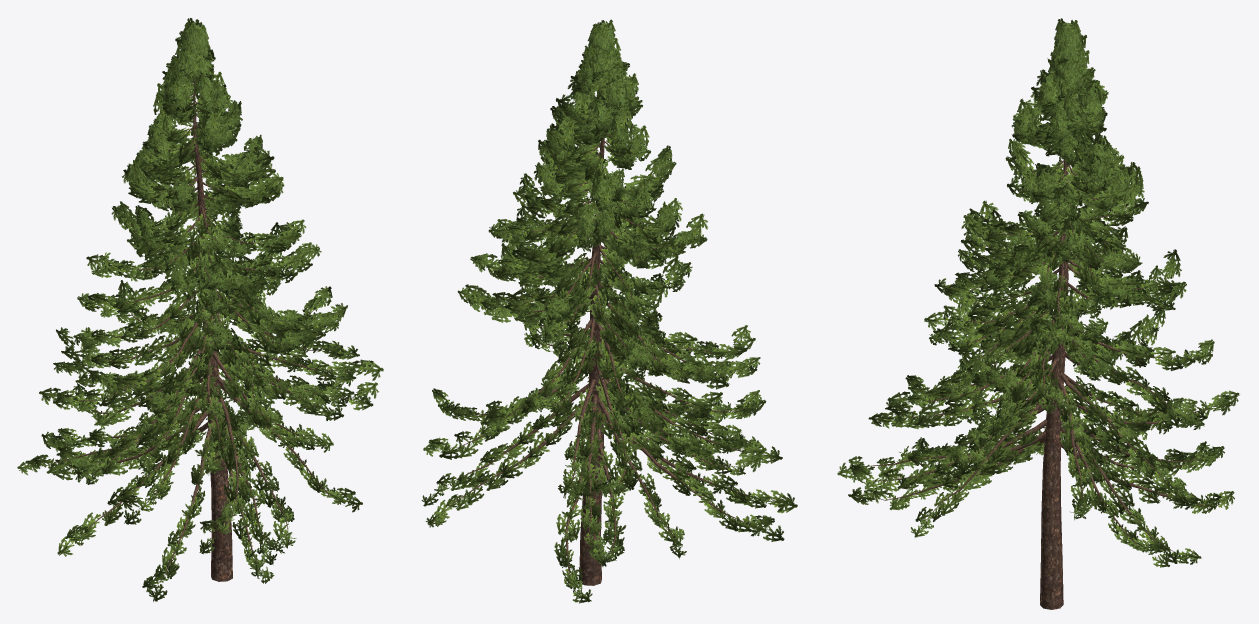
File: pine-lod0.glb
The picture shows the model from 3 angles, left to right: view 1: azimuth 30°, elevation 25°; view 2: azimuth 150°, elevation 25°; view 3: azimuth 270°, elevation 25°; orthographic projection. The views are drawn at different scales.
Visible parts, largest first — view 1: leaves, branches; view 2: leaves, branches; view 3: leaves, branches.
Part boxes in pixels (x1=…): leaves: x1=17, y1=18, x2=383, y2=601; branches: x1=39, y1=76, x2=361, y2=583; leaves: x1=421, y1=19, x2=797, y2=603; branches: x1=437, y1=82, x2=773, y2=593; leaves: x1=837, y1=18, x2=1239, y2=567; branches: x1=868, y1=85, x2=1220, y2=609.
Bounding box in the file's own units: 42.03 × 68.52 × 44.28.
Materials: 2 (2 with a texture image).
